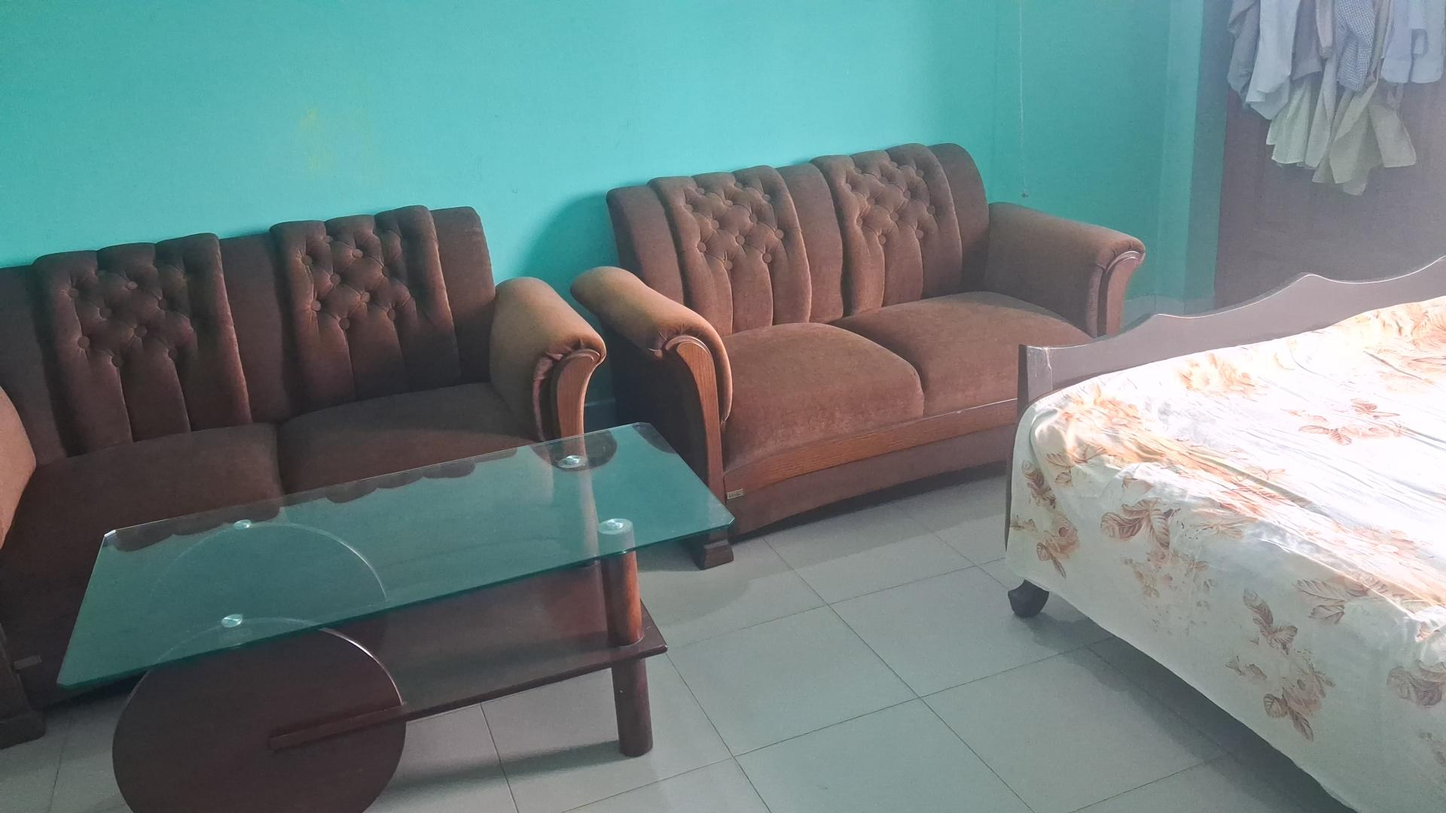Table: (61, 421, 735, 806)
